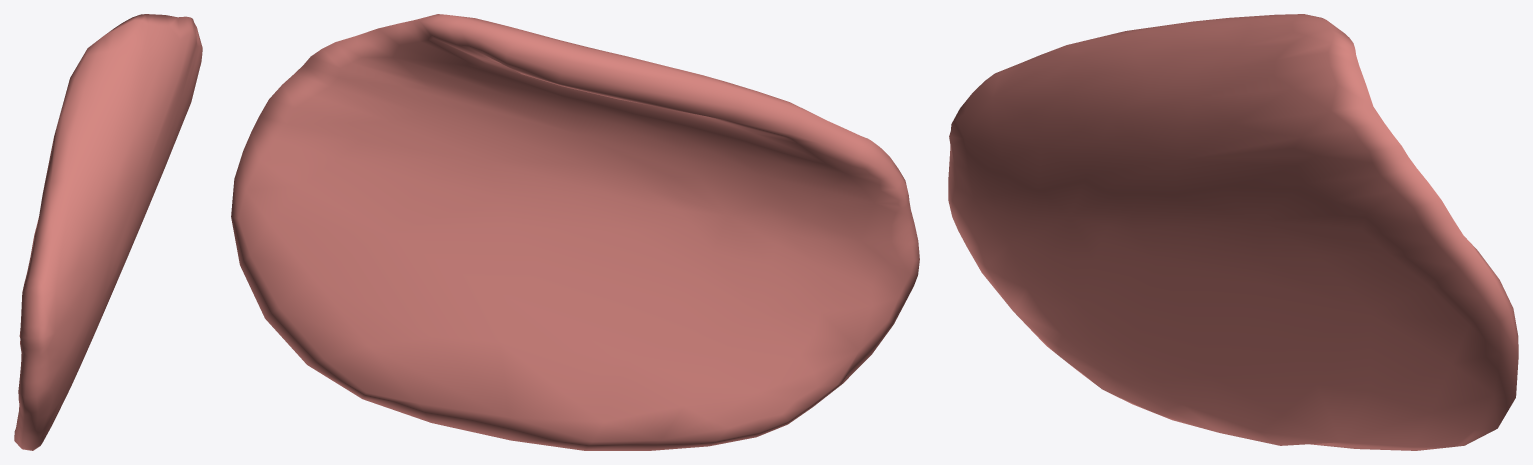
3 renders of one model, left to right at view 1: azimuth 30°, elevation 25°; view 2: azimuth 150°, elevation 25°; view 3: azimuth 270°, elevation 25°, orthographic. The views are drawn at different scales.
Parts seen in each view (by area): view 1: ZA_90c6dc037cffb1b2; view 2: ZA_90c6dc037cffb1b2; view 3: ZA_90c6dc037cffb1b2.
Boxes of the visible parts, left/top/right/bottom form: ZA_90c6dc037cffb1b2: left=14, top=14, right=202, bottom=450; ZA_90c6dc037cffb1b2: left=231, top=14, right=919, bottom=450; ZA_90c6dc037cffb1b2: left=948, top=14, right=1518, bottom=450.
Size of the model in its own units: 0.00648 by 0.00593 by 0.00624.
